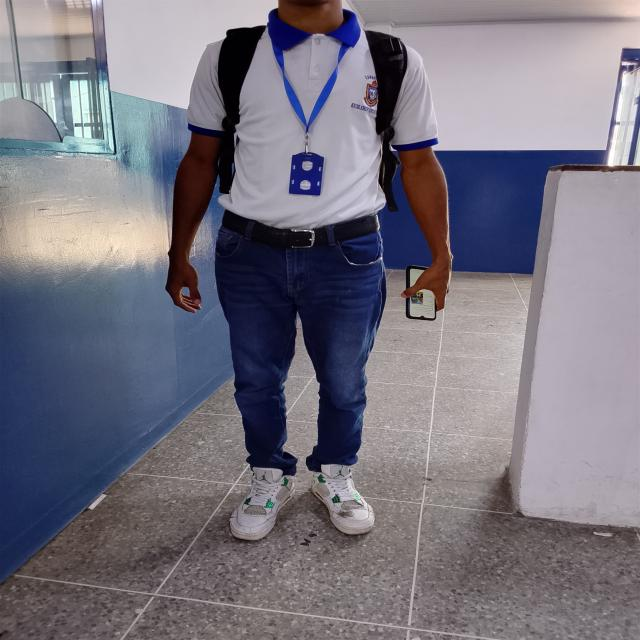carnet: (288, 154, 325, 196)
pantalon_oscuro: (213, 222, 388, 477)
uniforme_superior: (187, 7, 439, 229)
